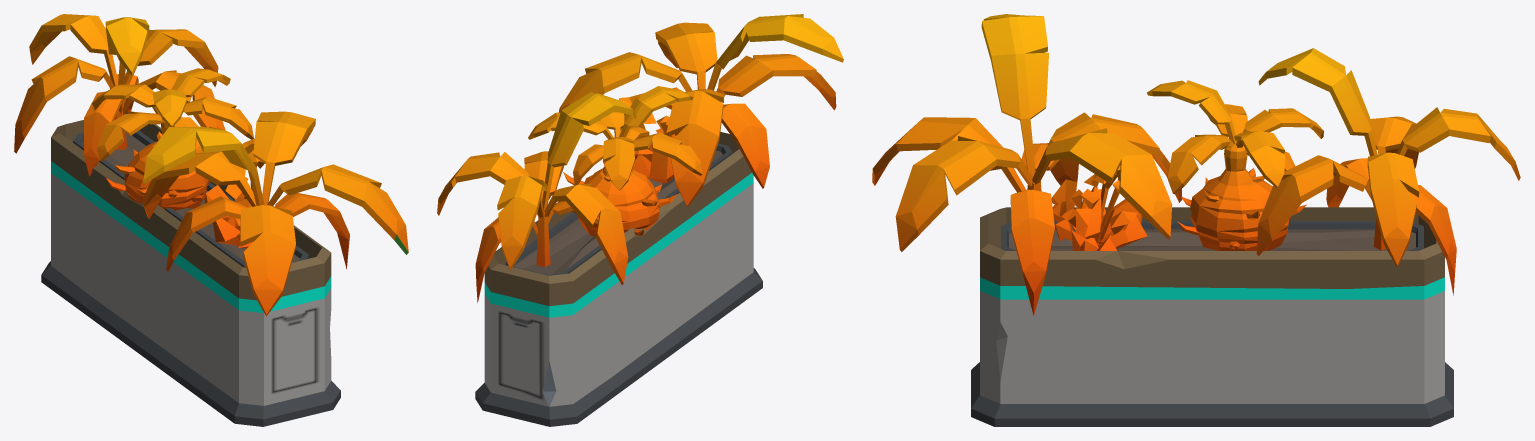
The model's file is SM_Prop_Holo_Planter_04.fbx.
The picture shows the model from 3 angles, left to right: view 1: azimuth 30°, elevation 25°; view 2: azimuth 150°, elevation 25°; view 3: azimuth 270°, elevation 25°; orthographic projection. The views are drawn at different scales.
Visible parts, largest first — view 1: SM_Prop_Holo_Planter_04, SM_Prop_Holo_Planter_04_Foliage; view 2: SM_Prop_Holo_Planter_04, SM_Prop_Holo_Planter_04_Foliage; view 3: SM_Prop_Holo_Planter_04, SM_Prop_Holo_Planter_04_Foliage.
Boxes of the visible parts, bbox=[...] form: SM_Prop_Holo_Planter_04: bbox=[41, 112, 340, 426]; SM_Prop_Holo_Planter_04_Foliage: bbox=[14, 14, 408, 316]; SM_Prop_Holo_Planter_04: bbox=[475, 132, 762, 426]; SM_Prop_Holo_Planter_04_Foliage: bbox=[437, 14, 843, 302]; SM_Prop_Holo_Planter_04: bbox=[971, 207, 1453, 426]; SM_Prop_Holo_Planter_04_Foliage: bbox=[872, 14, 1520, 315].
Size of the model in its own units: 148 by 169 by 297.
